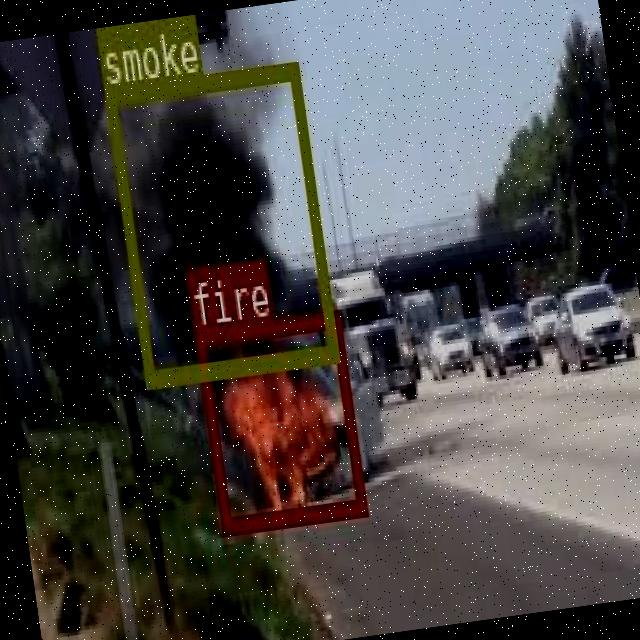fire: (192, 308, 364, 530)
smoke: (102, 59, 338, 386)
